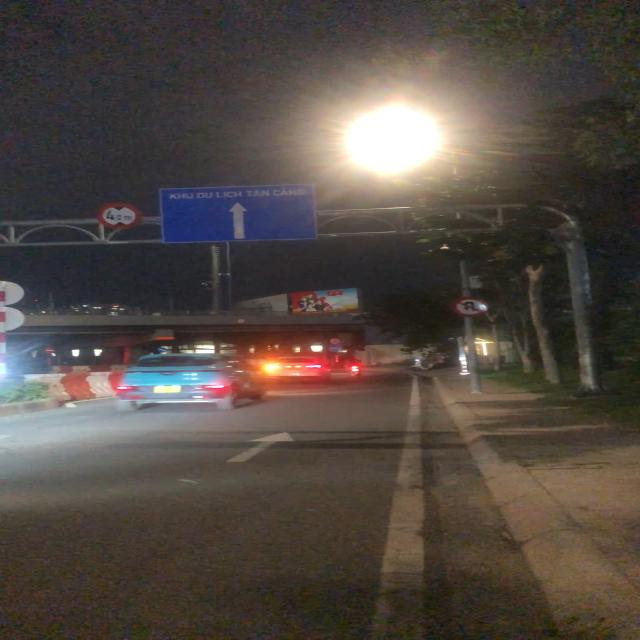Bien bao cam quay dau xe: (448, 295, 489, 318)
Bien bao han che chieu cao: (95, 201, 148, 232)
